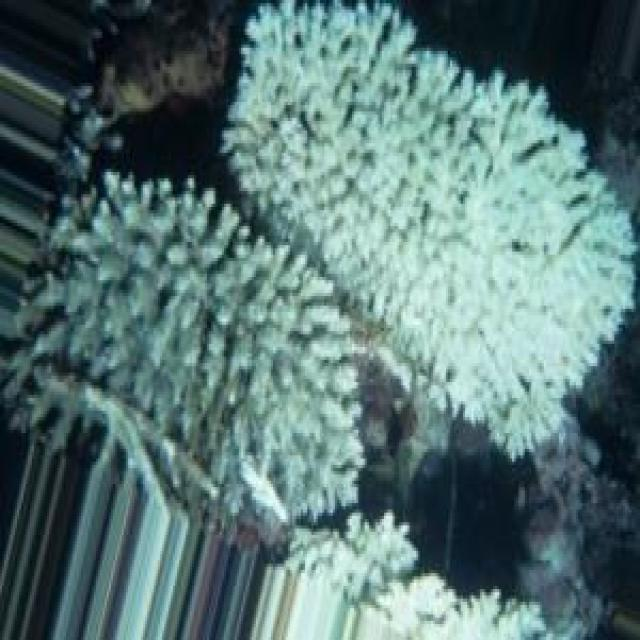bleached coral: (542, 255, 634, 392), (324, 166, 469, 248), (497, 140, 606, 248), (75, 172, 230, 245), (62, 274, 158, 376), (414, 271, 521, 350), (333, 519, 422, 602), (288, 309, 371, 385), (235, 369, 290, 474), (482, 373, 542, 455), (382, 315, 446, 388), (388, 32, 459, 96), (201, 261, 252, 350), (224, 76, 271, 166), (292, 76, 352, 140), (454, 560, 514, 618), (471, 80, 550, 124)
